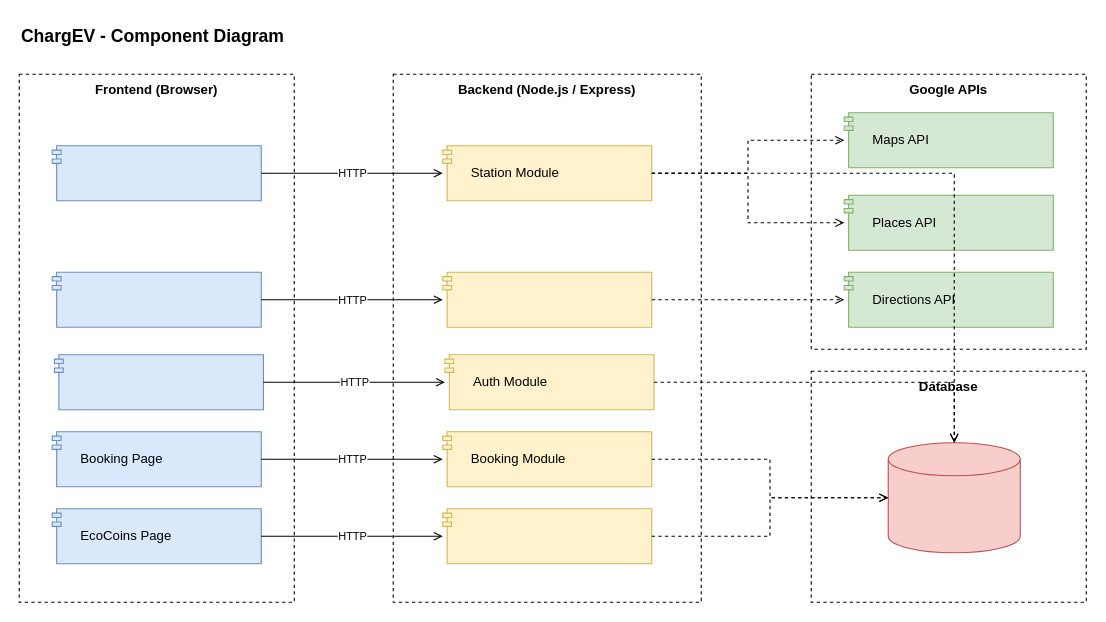
Image size: 1106x622. Some labels were removed from this diagram. The shapes that lost their labels are listed below. From the top down, each one's centre as x and y in pixels, then its label:
[156,173]: Station Locator
[156,299]: Trip Planner
[547,299]: Trip Module
[158,382]: Login / Signup
[953,497]: MongoDB Atlas
[547,536]: Rewards Module
